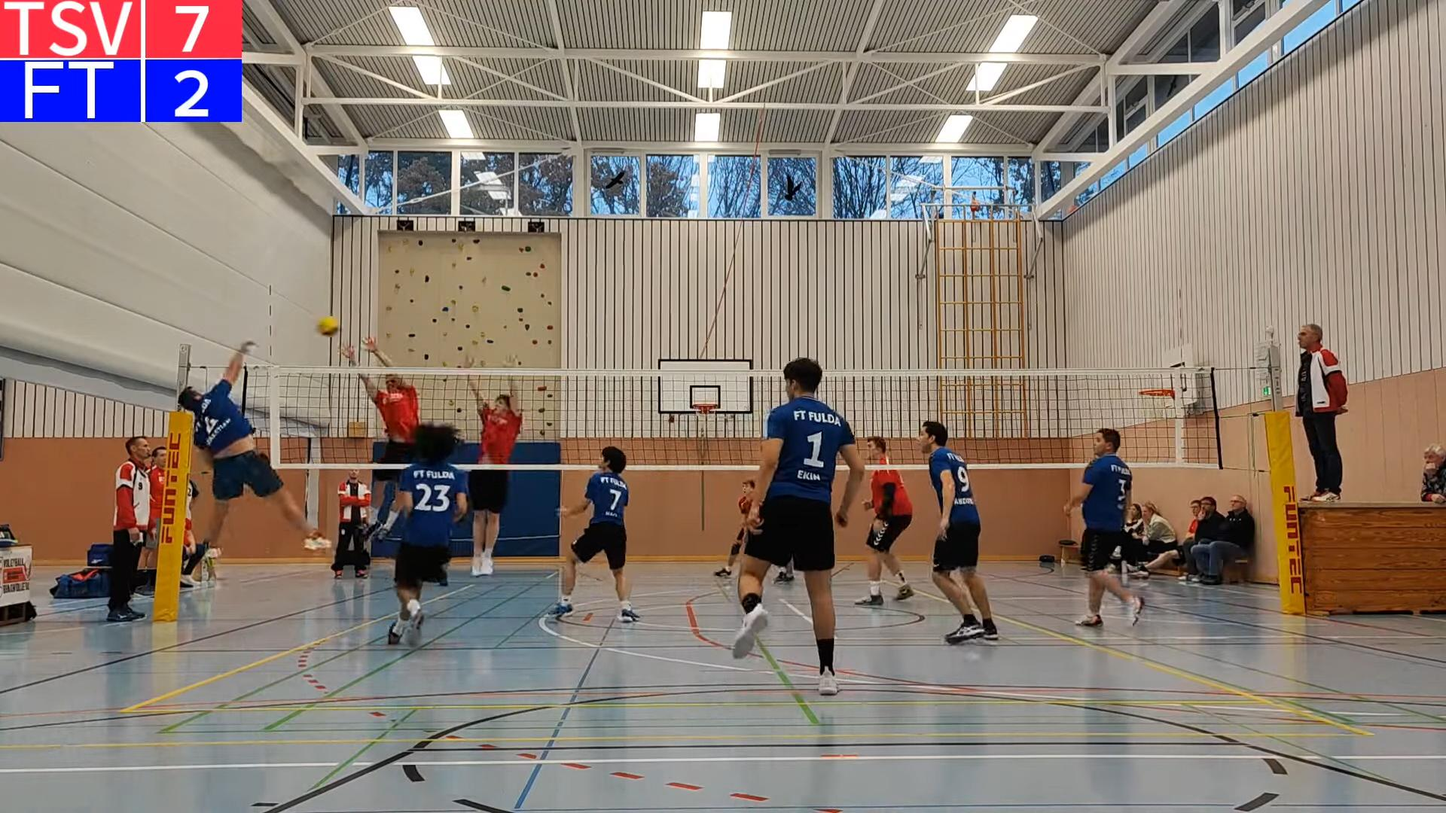attacco: (172, 345, 330, 556)
muro: (461, 359, 527, 578), (340, 328, 428, 462)
